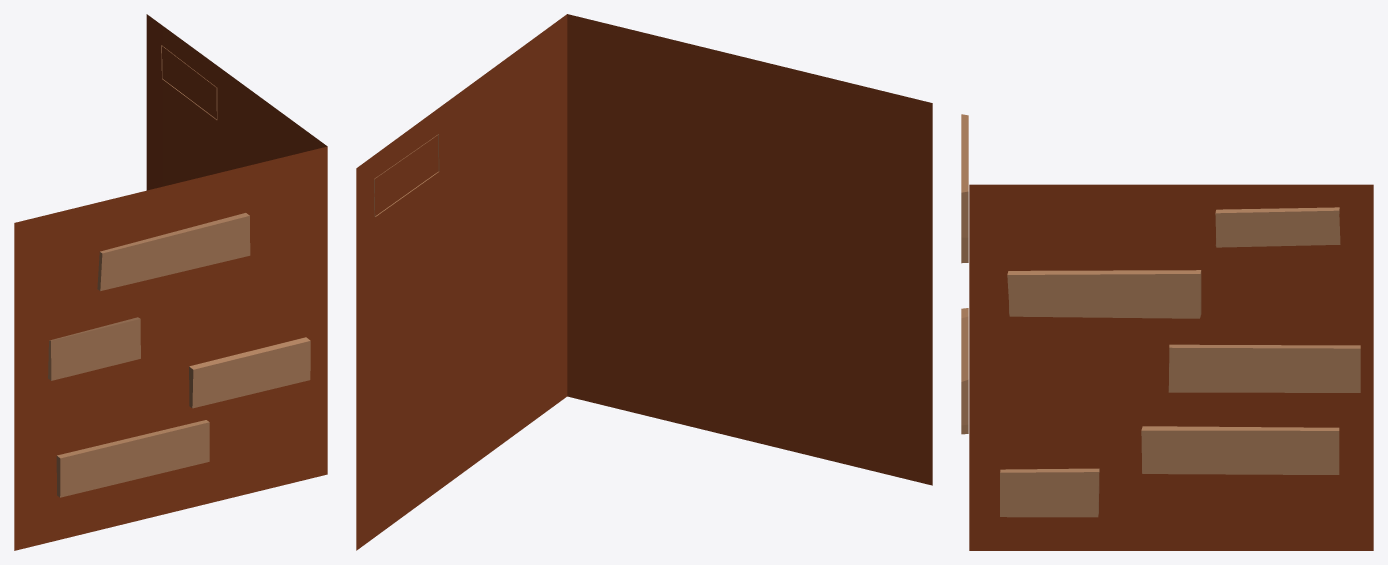
The model's file is Ext-BrickV2CornerHalfWall.fbx.
3 renders of one model, left to right at view 1: azimuth 30°, elevation 25°; view 2: azimuth 150°, elevation 25°; view 3: azimuth 270°, elevation 25°, orthographic. The views are drawn at different scales.
Visible parts, largest first — view 1: Ext-BrickV2CornerHalfWall; view 2: Ext-BrickV2CornerHalfWall; view 3: Ext-BrickV2CornerHalfWall.
Part boxes in pixels (<box>): Ext-BrickV2CornerHalfWall: <box>14,14,327,550</box>; Ext-BrickV2CornerHalfWall: <box>356,14,932,550</box>; Ext-BrickV2CornerHalfWall: <box>961,114,1373,550</box>.
Size of the model in its own units: 102 by 100 by 102.
